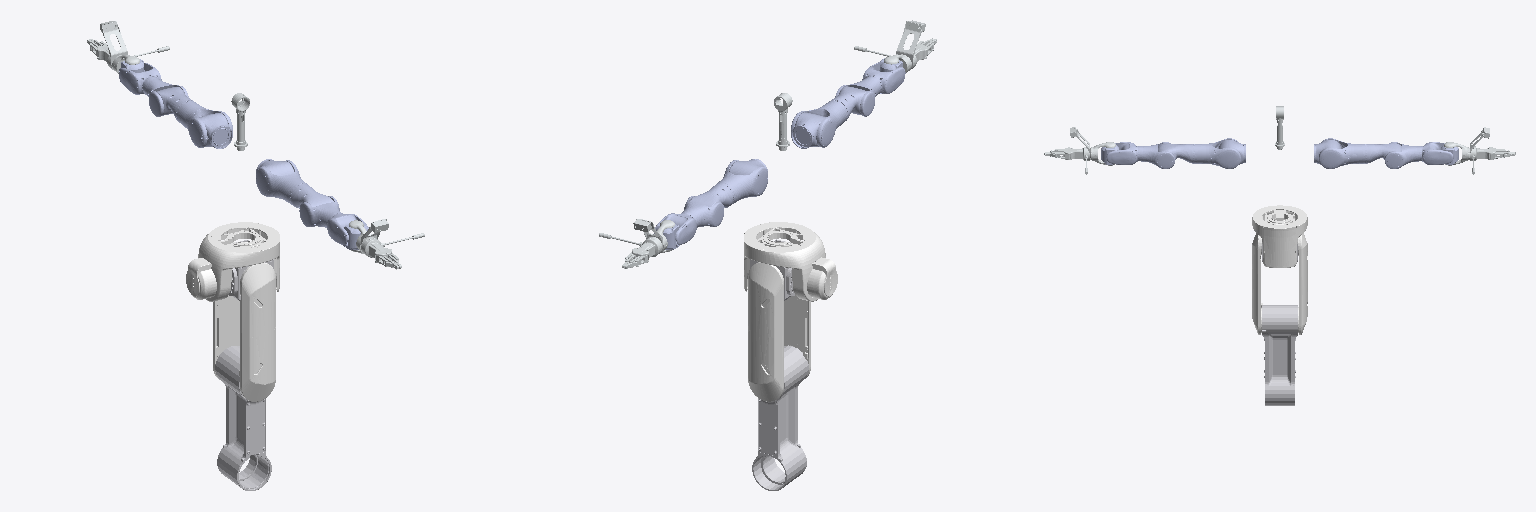
robot.urdf — G01_xml_base_aligned:
<?xml version='1.0' encoding='UTF-8'?>
<robot name="G01_xml_base_aligned"><!-- Rebased from G01.SLDASM(1).urdf to match robot_neck_updated.xml kinematic base/hierarchy. --><!-- Root physical link is ankle_pitch_link. Lower-body helper *_joint_frame links are massless URDF adapters that reproduce MJCF joints whose pivot is offset inside the child body. --><!-- MJCF world placement ankle_pitch_link pos='0.106499 0.0755 0.09845' is intentionally not encoded as a URDF world joint; URDF root coordinates start at ankle_pitch_link itself. --><link name="ankle_pitch_link">
    <inertial>
      <origin xyz="-0.067751 -0.085038 -0.00048866" rpy="0 0 0"/>
      <mass value="13.241"/>
      <inertia ixx="0.13265" ixy="-0.00012119" ixz="0.001768" iyy="0.086186" iyz="-0.0032762" izz="0.16969"/>
    </inertial>
    <visual>
      <origin xyz="0 0 0" rpy="0 0 0"/>
      <geometry>
        <mesh filename="../meshes/leg_pitch_1_Link.STL"/>
      </geometry>
      <material name="">
        <color rgba="0.79216 0.81961 0.93333 1"/>
      </material>
    </visual>
    <collision>
      <origin xyz="0 0 0" rpy="0 0 0"/>
      <geometry>
        <mesh filename="../meshes/leg_pitch_1_Link.STL"/>
      </geometry>
    </collision>
  </link>
  <link name="knee_pitch_link">
    <inertial>
      <origin xyz="0.0030187 -0.088388 -0.17779" rpy="0 0 0"/>
      <mass value="5.3729"/>
      <inertia ixx="0.15132" ixy="-8.9208E-05" ixz="0.00033667" iyy="0.15017" iyz="-3.134E-06" izz="0.020706"/>
    </inertial>
    <visual>
      <origin xyz="0 0 0" rpy="0 0 0"/>
      <geometry>
        <mesh filename="../meshes/leg_pitch_2_Link.STL"/>
      </geometry>
      <material name="">
        <color rgba="0.86667 0.86667 0.8902 1"/>
      </material>
    </visual>
    <collision>
      <origin xyz="0 0 0" rpy="0 0 0"/>
      <geometry>
        <mesh filename="../meshes/leg_pitch_2_Link.STL"/>
      </geometry>
    </collision>
  </link>
  <link name="thigh">
    <inertial>
      <origin xyz="-0.0016889 0.033117 -0.20958" rpy="0 0 0"/>
      <mass value="10.128"/>
      <inertia ixx="7990.5" ixy="16.784" ixz="4.3376" iyy="8660.9" iyz="-0.16702" izz="768.18"/>
    </inertial>
    <visual>
      <origin xyz="0 0 0" rpy="0 0 0"/>
      <geometry>
        <mesh filename="../meshes/waist_pitch_Link.STL"/>
      </geometry>
      <material name="">
        <color rgba="1 1 1 1"/>
      </material>
    </visual>
    <collision>
      <origin xyz="0 0 0" rpy="0 0 0"/>
      <geometry>
        <mesh filename="../meshes/waist_pitch_Link.STL"/>
      </geometry>
    </collision>
  </link>
  <link name="hip_roll_link">
    <inertial>
      <origin xyz="0.071191 -0.00047493 -0.00027806" rpy="0 0 0"/>
      <mass value="3.1917"/>
      <inertia ixx="0.017166" ixy="8.7819E-05" ixz="5.4052E-05" iyy="0.017432" iyz="-2.1704E-05" izz="0.018019"/>
    </inertial>
    <visual>
      <origin xyz="0 0 0" rpy="0 0 0"/>
      <geometry>
        <mesh filename="../meshes/waist_roll_Link.STL"/>
      </geometry>
      <material name="">
        <color rgba="0.86667 0.86667 0.8902 1"/>
      </material>
    </visual>
    <collision>
      <origin xyz="0 0 0" rpy="0 0 0"/>
      <geometry>
        <mesh filename="../meshes/waist_roll_Link.STL"/>
      </geometry>
    </collision>
  </link>
  <link name="pelvis">
    <inertial>
      <origin xyz="-0.017322 -0.00048002 -0.074637" rpy="0 0 0"/>
      <mass value="2.088"/>
      <inertia ixx="0.0094861" ixy="1.6546E-05" ixz="-0.00063215" iyy="0.018944" iyz="3.6752E-05" izz="0.018452"/>
    </inertial>
    <visual>
      <origin xyz="0 0 0" rpy="0 0 0"/>
      <geometry>
        <mesh filename="../meshes/waist_yaw_Link.STL"/>
      </geometry>
      <material name="">
        <color rgba="1 1 1 1"/>
      </material>
    </visual>
    <collision>
      <origin xyz="0 0 0" rpy="0 0 0"/>
      <geometry>
        <mesh filename="../meshes/waist_yaw_Link.STL"/>
      </geometry>
    </collision>
  </link>
  <link name="torso">
    <inertial>
      <origin xyz="0.098699 -0.00011456 -0.00039957" rpy="0 0 0"/>
      <mass value="5.7915"/>
      <inertia ixx="0.089485" ixy="-3.1414E-06" ixz="0.001659" iyy="0.077846" iyz="-7.1762E-05" izz="0.032366"/>
    </inertial>
    <visual>
      <origin xyz="0 0 0" rpy="0 0 0"/>
      <geometry>
        <mesh filename="../meshes/base_link.STL"/>
      </geometry>
      <material name="">
        <color rgba="0.79216 0.81961 0.93333 1"/>
      </material>
    </visual>
    <collision>
      <origin xyz="0 0 0" rpy="0 0 0"/>
      <geometry>
        <mesh filename="../meshes/base_link.STL"/>
      </geometry>
    </collision>
  </link>
  <link name="L_link1">
    <inertial>
      <origin xyz="-5.6645E-06 -0.0052551 0.07396" rpy="0 0 0"/>
      <mass value="1.2203"/>
      <inertia ixx="0.0023855" ixy="1.1482E-07" ixz="-3.3229E-07" iyy="0.0022762" iyz="5.5034E-05" izz="0.0020362"/>
    </inertial>
    <visual>
      <origin xyz="0 0 0" rpy="0 0 0"/>
      <geometry>
        <mesh filename="../meshes/shoulder_pitch_L_Link.STL"/>
      </geometry>
      <material name="">
        <color rgba="0.79216 0.81961 0.93333 1"/>
      </material>
    </visual>
    <collision>
      <origin xyz="0 0 0" rpy="0 0 0"/>
      <geometry>
        <mesh filename="../meshes/shoulder_pitch_L_Link.STL"/>
      </geometry>
    </collision>
  </link>
  <link name="L_link2">
    <inertial>
      <origin xyz="-4.2735E-06 -0.046926 0.098165" rpy="0 0 0"/>
      <mass value="1.1711"/>
      <inertia ixx="0.0056632" ixy="9.4151E-08" ixz="-4.6299E-07" iyy="0.0048822" iyz="0.00069244" izz="0.0022618"/>
    </inertial>
    <visual>
      <origin xyz="0 0 0" rpy="0 0 0"/>
      <geometry>
        <mesh filename="../meshes/shoulder_roll_L_Link.STL"/>
      </geometry>
      <material name="">
        <color rgba="0.79216 0.81961 0.93333 1"/>
      </material>
    </visual>
    <collision>
      <origin xyz="0 0 0" rpy="0 0 0"/>
      <geometry>
        <mesh filename="../meshes/shoulder_roll_L_Link.STL"/>
      </geometry>
    </collision>
  </link>
  <link name="L_link3">
    <inertial>
      <origin xyz="0.001778 0.0027503 0.091621" rpy="0 0 0"/>
      <mass value="1.1749"/>
      <inertia ixx="0.0036366" ixy="-2.6506E-05" ixz="-0.00035953" iyy="0.0034576" iyz="-0.00011051" izz="0.0015461"/>
    </inertial>
    <visual>
      <origin xyz="0 0 0" rpy="0 0 0"/>
      <geometry>
        <mesh filename="../meshes/shoulder_yaw_L_Link.STL"/>
      </geometry>
      <material name="">
        <color rgba="0.79216 0.81961 0.93333 1"/>
      </material>
    </visual>
    <collision>
      <origin xyz="0 0 0" rpy="0 0 0"/>
      <geometry>
        <mesh filename="../meshes/shoulder_yaw_L_Link.STL"/>
      </geometry>
    </collision>
  </link>
  <link name="L_link4">
    <inertial>
      <origin xyz="-0.0076659 0.043626 0.068345" rpy="0 0 0"/>
      <mass value="0.61471"/>
      <inertia ixx="0.0017807" ixy="3.1458E-05" ixz="6.7897E-05" iyy="0.0014057" iyz="-0.00028373" izz="0.00093046"/>
    </inertial>
    <visual>
      <origin xyz="0 0 0" rpy="0 0 0"/>
      <geometry>
        <mesh filename="../meshes/elbow_L_Link.STL"/>
      </geometry>
      <material name="">
        <color rgba="0.79216 0.81961 0.93333 1"/>
      </material>
    </visual>
    <collision>
      <origin xyz="0 0 0" rpy="0 0 0"/>
      <geometry>
        <mesh filename="../meshes/elbow_L_Link.STL"/>
      </geometry>
    </collision>
  </link>
  <link name="L_link5">
    <inertial>
      <origin xyz="-0.00049231 -0.0067607 0.04988" rpy="0 0 0"/>
      <mass value="0.62452"/>
      <inertia ixx="0.0013925" ixy="2.6252E-05" ixz="2.1003E-05" iyy="0.0010098" iyz="8.2433E-05" izz="0.00092058"/>
    </inertial>
    <visual>
      <origin xyz="0 0 0" rpy="0 0 0"/>
      <geometry>
        <mesh filename="../meshes/wrist_yaw_L_Link.STL"/>
      </geometry>
      <material name="">
        <color rgba="0.79216 0.81961 0.93333 1"/>
      </material>
    </visual>
    <collision>
      <origin xyz="0 0 0" rpy="0 0 0"/>
      <geometry>
        <mesh filename="../meshes/wrist_yaw_L_Link.STL"/>
      </geometry>
    </collision>
  </link>
  <link name="L_link6">
    <inertial>
      <origin xyz="3.5625E-05 -1.8032E-05 1.0508E-06" rpy="0 0 0"/>
      <mass value="0.47347"/>
      <inertia ixx="0.00042051" ixy="-1.2309E-07" ixz="2.3423E-08" iyy="0.00049432" iyz="-3.9434E-10" izz="0.00047169"/>
    </inertial>
    <visual>
      <origin xyz="0 0 0" rpy="0 0 0"/>
      <geometry>
        <mesh filename="../meshes/wrist_roll_L_Link.STL"/>
      </geometry>
      <material name="">
        <color rgba="0.79216 0.81961 0.93333 1"/>
      </material>
    </visual>
    <collision>
      <origin xyz="0 0 0" rpy="0 0 0"/>
      <geometry>
        <mesh filename="../meshes/wrist_roll_L_Link.STL"/>
      </geometry>
    </collision>
  </link>
  <link name="L_link7">
    <inertial>
      <origin xyz="-0.013883 -0.0037125 0.12971" rpy="0 0 0"/>
      <mass value="0.70652"/>
      <inertia ixx="0.00053604" ixy="5.513E-06" ixz="0.00018818" iyy="0.00067704" iyz="-3.3997E-06" izz="0.00058735"/>
    </inertial>
    <visual>
      <origin xyz="0 0 0" rpy="0 0 0"/>
      <geometry>
        <mesh filename="../meshes/wrist_pitch_L_Link.STL"/>
      </geometry>
      <material name="">
        <color rgba="0.89804 0.91765 0.92941 1"/>
      </material>
    </visual>
    <collision>
      <origin xyz="0 0 0" rpy="0 0 0"/>
      <geometry>
        <mesh filename="../meshes/wrist_pitch_L_Link.STL"/>
      </geometry>
    </collision>
  </link>
  <link name="R_link1">
    <inertial>
      <origin xyz="5.3896E-06 0.0052552 0.07396" rpy="0 0 0"/>
      <mass value="1.2203"/>
      <inertia ixx="0.0023855" ixy="1.2041E-07" ixz="3.2923E-07" iyy="0.0022762" iyz="-5.5033E-05" izz="0.0020362"/>
    </inertial>
    <visual>
      <origin xyz="0 0 0" rpy="0 0 0"/>
      <geometry>
        <mesh filename="../meshes/shoulder_pitch_R_Link.STL"/>
      </geometry>
      <material name="">
        <color rgba="0.79216 0.81961 0.93333 1"/>
      </material>
    </visual>
    <collision>
      <origin xyz="0 0 0" rpy="0 0 0"/>
      <geometry>
        <mesh filename="../meshes/shoulder_pitch_R_Link.STL"/>
      </geometry>
    </collision>
  </link>
  <link name="R_link2">
    <inertial>
      <origin xyz="4.276E-06 0.046926 0.098165" rpy="0 0 0"/>
      <mass value="1.1711"/>
      <inertia ixx="0.0056632" ixy="9.3914E-08" ixz="4.6302E-07" iyy="0.0048822" iyz="-0.00069244" izz="0.0022618"/>
    </inertial>
    <visual>
      <origin xyz="0 0 0" rpy="0 0 0"/>
      <geometry>
        <mesh filename="../meshes/shoulder_roll_R_Link.STL"/>
      </geometry>
      <material name="">
        <color rgba="0.79216 0.81961 0.93333 1"/>
      </material>
    </visual>
    <collision>
      <origin xyz="0 0 0" rpy="0 0 0"/>
      <geometry>
        <mesh filename="../meshes/shoulder_roll_R_Link.STL"/>
      </geometry>
    </collision>
  </link>
  <link name="R_link3">
    <inertial>
      <origin xyz="0.0017783 -0.0027495 0.10262" rpy="0 0 0"/>
      <mass value="1.1749"/>
      <inertia ixx="0.0036366" ixy="2.6526E-05" ixz="-0.00035959" iyy="0.0034575" iyz="0.00011052" izz="0.0015461"/>
    </inertial>
    <visual>
      <origin xyz="0 0 0" rpy="0 0 0"/>
      <geometry>
        <mesh filename="../meshes/shoulder_yaw_R_Link.STL"/>
      </geometry>
      <material name="">
        <color rgba="0.79216 0.81961 0.93333 1"/>
      </material>
    </visual>
    <collision>
      <origin xyz="0 0 0" rpy="0 0 0"/>
      <geometry>
        <mesh filename="../meshes/shoulder_yaw_R_Link.STL"/>
      </geometry>
    </collision>
  </link>
  <link name="R_link4">
    <inertial>
      <origin xyz="-0.0076659 0.065824 0.068345" rpy="0 0 0"/>
      <mass value="0.6147"/>
      <inertia ixx="0.0017807" ixy="-3.1452E-05" ixz="6.7886E-05" iyy="0.0014057" iyz="0.00028372" izz="0.00093046"/>
    </inertial>
    <visual>
      <origin xyz="0 0 0" rpy="0 0 0"/>
      <geometry>
        <mesh filename="../meshes/elbow_R_Link.STL"/>
      </geometry>
      <material name="">
        <color rgba="0.79216 0.81961 0.93333 1"/>
      </material>
    </visual>
    <collision>
      <origin xyz="0 0 0" rpy="0 0 0"/>
      <geometry>
        <mesh filename="../meshes/elbow_R_Link.STL"/>
      </geometry>
    </collision>
  </link>
  <link name="R_link5">
    <inertial>
      <origin xyz="-0.00049102 0.0067607 0.051882" rpy="0 0 0"/>
      <mass value="0.62453"/>
      <inertia ixx="0.0013926" ixy="-2.6405E-05" ixz="2.1018E-05" iyy="0.0010099" iyz="-8.245E-05" izz="0.0009206"/>
    </inertial>
    <visual>
      <origin xyz="0 0 0" rpy="0 0 0"/>
      <geometry>
        <mesh filename="../meshes/wrist_yaw_R_Link.STL"/>
      </geometry>
      <material name="">
        <color rgba="0.79216 0.81961 0.93333 1"/>
      </material>
    </visual>
    <collision>
      <origin xyz="0 0 0" rpy="0 0 0"/>
      <geometry>
        <mesh filename="../meshes/wrist_yaw_R_Link.STL"/>
      </geometry>
    </collision>
  </link>
  <link name="R_link6">
    <inertial>
      <origin xyz="3.5594E-05 1.8218E-05 1.0035E-06" rpy="0 0 0"/>
      <mass value="0.47347"/>
      <inertia ixx="0.00042051" ixy="1.2276E-07" ixz="2.3419E-08" iyy="0.00049432" iyz="3.1419E-10" izz="0.00047169"/>
    </inertial>
    <visual>
      <origin xyz="0 0 0" rpy="0 0 0"/>
      <geometry>
        <mesh filename="../meshes/wrist_roll_R_Link.STL"/>
      </geometry>
      <material name="">
        <color rgba="0.79216 0.81961 0.93333 1"/>
      </material>
    </visual>
    <collision>
      <origin xyz="0 0 0" rpy="0 0 0"/>
      <geometry>
        <mesh filename="../meshes/wrist_roll_R_Link.STL"/>
      </geometry>
    </collision>
  </link>
  <link name="R_link7">
    <inertial>
      <origin xyz="-0.013573 0.0034809 0.12971" rpy="0 0 0"/>
      <mass value="0.70653"/>
      <inertia ixx="0.00053601" ixy="5.3237E-06" ixz="0.0001882" iyy="0.00067699" iyz="-3.5804E-06" izz="0.00058729"/>
    </inertial>
    <visual>
      <origin xyz="0 0 0" rpy="0 0 0"/>
      <geometry>
        <mesh filename="../meshes/wrist_pitch_R_Link.STL"/>
      </geometry>
      <material name="">
        <color rgba="0.89804 0.91765 0.92941 1"/>
      </material>
    </visual>
    <collision>
      <origin xyz="0 0 0" rpy="0 0 0"/>
      <geometry>
        <mesh filename="../meshes/wrist_pitch_R_Link.STL"/>
      </geometry>
    </collision>
  </link>
  <link name="neck_yaw_link">
    <inertial>
      <origin xyz="-4.5413E-05 0.0013344 0.088716" rpy="0 0 0"/>
      <mass value="0.21475"/>
      <inertia ixx="0.00032902" ixy="1.4352E-07" ixz="2.6839E-08" iyy="0.00034306" iyz="-1.2821E-06" izz="7.4162E-05"/>
    </inertial>
    <visual>
      <origin xyz="0 0 0" rpy="0 0 0"/>
      <geometry>
        <mesh filename="../meshes/head_yaw_Link.STL"/>
      </geometry>
      <material name="">
        <color rgba="0.89804 0.91765 0.92941 1"/>
      </material>
    </visual>
    <collision>
      <origin xyz="0 0 0" rpy="0 0 0"/>
      <geometry>
        <mesh filename="../meshes/head_yaw_Link.STL"/>
      </geometry>
    </collision>
  </link>
  <link name="head">
    <inertial>
      <origin xyz="0.032468 0.030856 0.058694" rpy="0 0 0"/>
      <mass value="0.7844"/>
      <inertia ixx="0.0019813" ixy="-2.1834E-05" ixz="-4.4847E-05" iyy="0.0014724" iyz="-9.9191E-05" izz="0.0023018"/>
    </inertial>
    <visual>
      <origin xyz="0 0 0" rpy="0 0 0"/>
      <geometry>
        <mesh filename="../meshes/head_pitch_Link.STL"/>
      </geometry>
      <material name="">
        <color rgba="1 1 1 1"/>
      </material>
    </visual>
    <collision>
      <origin xyz="0 0 0" rpy="0 0 0"/>
      <geometry>
        <mesh filename="../meshes/head_pitch_Link.STL"/>
      </geometry>
    </collision>
  </link>
  <link name="ankle_pitch_joint_frame"/><link name="knee_pitch_joint_frame"/><link name="hip_pitch_joint_frame"/><link name="hip_roll_joint_frame"/><link name="hip_yaw_joint_frame"/><link name="arm_base_link"/><link name="L_base"/><link name="R_base"/><joint name="ankle_pitch" type="revolute"><origin xyz="0 0 0" rpy="0 0 0"/><parent link="ankle_pitch_link"/><child link="ankle_pitch_joint_frame"/><axis xyz="0 1 0"/><limit lower="-1.0472" upper="0" effort="0" velocity="0"/></joint><joint name="ankle_pitch_body_offset" type="fixed"><origin xyz="0 0.0102 0.38" rpy="0 0 0"/><parent link="ankle_pitch_joint_frame"/><child link="knee_pitch_link"/></joint><joint name="knee_pitch" type="revolute"><origin xyz="0 0 0" rpy="0 0 0"/><parent link="knee_pitch_link"/><child link="knee_pitch_joint_frame"/><axis xyz="0 -1 0"/><limit lower="-2.167" upper="0" effort="0" velocity="0"/></joint><joint name="knee_pitch_body_offset" type="fixed"><origin xyz="0 0 0.42" rpy="0 0 0"/><parent link="knee_pitch_joint_frame"/><child link="thigh"/></joint><joint name="hip_pitch" type="revolute"><origin xyz="0 0 0" rpy="0 0 0"/><parent link="thigh"/><child link="hip_pitch_joint_frame"/><axis xyz="0 1 0"/><limit lower="-1.5708" upper="1.9199" effort="0" velocity="0"/></joint><joint name="hip_pitch_body_offset" type="fixed"><origin xyz="-0.089 -0.085496 0" rpy="0 0 0"/><parent link="hip_pitch_joint_frame"/><child link="hip_roll_link"/></joint><joint name="hip_roll" type="revolute"><origin xyz="0 0 0" rpy="0 0 0"/><parent link="hip_roll_link"/><child link="hip_roll_joint_frame"/><axis xyz="0.99995 0 -0.0096363"/><limit lower="-0.4363" upper="0.4363" effort="0" velocity="0"/></joint><joint name="hip_roll_body_offset" type="fixed"><origin xyz="0.088999 0 0.146" rpy="0 0 0"/><parent link="hip_roll_joint_frame"/><child link="pelvis"/></joint><joint name="hip_yaw" type="revolute"><origin xyz="0 0 0" rpy="0 0 0"/><parent link="pelvis"/><child link="hip_yaw_joint_frame"/><axis xyz="-0.0096363 0 -0.99995"/><limit lower="-3.0543" upper="3.0543" effort="0" velocity="0"/></joint><joint name="hip_yaw_body_offset" type="fixed"><origin xyz="-0.1065 0 0.2435" rpy="0 0 0"/><parent link="hip_yaw_joint_frame"/><child link="torso"/></joint><joint name="torso_to_arm_base" type="fixed"><origin xyz="0 0 0" rpy="0 0 0"/><parent link="torso"/><child link="arm_base_link"/></joint><joint name="arm_base_to_L_base" type="fixed"><origin xyz="0.1065 0.1645 0.0905" rpy="0 1.5708 1.5708"/><parent link="arm_base_link"/><child link="L_base"/></joint><joint name="arm_base_to_R_base" type="fixed"><origin xyz="0.1065 -0.1645 0.0905" rpy="1.5708 1.5708 0"/><parent link="arm_base_link"/><child link="R_base"/></joint><joint name="L_joint1" type="revolute">
    <origin xyz="0 0 0" rpy="0 0 0"/>
    <parent link="L_base"/>
    <child link="L_link1"/>
    <axis xyz="0 0 1"/>
    <limit lower="-3.1067" upper="3.1067" effort="0" velocity="0"/>
  </joint>
  <joint name="L_joint2" type="revolute">
    <origin xyz="0 0.0532 0.0825" rpy="0 0 0"/>
    <parent link="L_link1"/>
    <child link="L_link2"/>
    <axis xyz="0 1 0"/>
    <limit lower="-2.0944" upper="1.57" effort="0" velocity="0"/>
  </joint>
  <joint name="L_joint3" type="revolute">
    <origin xyz="0 -0.0532 0.189" rpy="0 0 0"/>
    <parent link="L_link2"/>
    <child link="L_link3"/>
    <axis xyz="0 0 1"/>
    <limit lower="-3.1067" upper="3.1067" effort="0" velocity="0"/>
  </joint>
  <joint name="L_joint4" type="revolute">
    <origin xyz="0.01 -0.05075 0.125" rpy="0 0 0"/>
    <parent link="L_link3"/>
    <child link="L_link4"/>
    <axis xyz="0 1 0"/>
    <limit lower="-1.04" upper="2.5307" effort="0" velocity="0"/>
  </joint>
  <joint name="L_joint5" type="revolute">
    <origin xyz="-0.01 0.05075 0.137" rpy="0 0 0"/>
    <parent link="L_link4"/>
    <child link="L_link5"/>
    <axis xyz="0 0 1"/>
    <limit lower="-3.1067" upper="3.1067" effort="0" velocity="0"/>
  </joint>
  <joint name="L_joint6" type="revolute">
    <origin xyz="0 0 0.135" rpy="0 0 0"/>
    <parent link="L_link5"/>
    <child link="L_link6"/>
    <axis xyz="0 1 0"/>
    <limit lower="-1.0472" upper="1.0472" effort="0" velocity="0"/>
  </joint>
  <joint name="L_joint7" type="revolute">
    <origin xyz="0 0 0" rpy="0 0 0"/>
    <parent link="L_link6"/>
    <child link="L_link7"/>
    <axis xyz="1 0 0"/>
    <limit lower="-1.5708" upper="1.5708" effort="0" velocity="0"/>
  </joint>
  <joint name="R_joint1" type="revolute">
    <origin xyz="0 0 0" rpy="0 0 0"/>
    <parent link="R_base"/>
    <child link="R_link1"/>
    <axis xyz="0 0 1"/>
    <limit lower="-3.1067" upper="3.1067" effort="0" velocity="0"/>
  </joint>
  <joint name="R_joint2" type="revolute">
    <origin xyz="0 -0.0532 0.0825" rpy="0 0 0"/>
    <parent link="R_link1"/>
    <child link="R_link2"/>
    <axis xyz="0 1 0"/>
    <limit lower="-2.0944" upper="1.57" effort="0" velocity="0"/>
  </joint>
  <joint name="R_joint3" type="revolute">
    <origin xyz="0 0.0532 0.178" rpy="0 0 0"/>
    <parent link="R_link2"/>
    <child link="R_link3"/>
    <axis xyz="0 0 1"/>
    <limit lower="-3.1067" upper="3.1067" effort="0" velocity="0"/>
  </joint>
  <joint name="R_joint4" type="revolute">
    <origin xyz="0.01 -0.0587 0.136" rpy="0 0 0"/>
    <parent link="R_link3"/>
    <child link="R_link4"/>
    <axis xyz="0 1 0"/>
    <limit lower="-1.04" upper="2.5307" effort="0" velocity="0"/>
  </joint>
  <joint name="R_joint5" type="revolute">
    <origin xyz="-0.01 0.0587 0.135" rpy="0 0 0"/>
    <parent link="R_link4"/>
    <child link="R_link5"/>
    <axis xyz="0 0 1"/>
    <limit lower="-3.1067" upper="3.1067" effort="0" velocity="0"/>
  </joint>
  <joint name="R_joint6" type="revolute">
    <origin xyz="0 0 0.137" rpy="0 0 0"/>
    <parent link="R_link5"/>
    <child link="R_link6"/>
    <axis xyz="0 1 0"/>
    <limit lower="-1.0472" upper="1.0472" effort="0" velocity="0"/>
  </joint>
  <joint name="R_joint7" type="revolute">
    <origin xyz="0 0 0" rpy="0 0 0"/>
    <parent link="R_link6"/>
    <child link="R_link7"/>
    <axis xyz="1 0 0"/>
    <limit lower="-1.5708" upper="1.5708" effort="0" velocity="0"/>
  </joint>
  <joint name="neck_yaw" type="revolute">
    <origin xyz="0.0915 0 0.138" rpy="0 0 0"/>
    <parent link="torso"/>
    <child link="neck_yaw_link"/>
    <axis xyz="0 0 -1"/>
    <limit lower="-1.5708" upper="1.5708" effort="0" velocity="0"/>
  </joint>
  <joint name="neck_pitch" type="revolute">
    <origin xyz="0 -0.0351 0.1697" rpy="0 0 0"/>
    <parent link="neck_yaw_link"/>
    <child link="head"/>
    <axis xyz="0 -1 0"/>
    <limit lower="-0.5236" upper="0.5236" effort="0" velocity="0"/>
  </joint>
  </robot>

--- Facts derived from the render (not from the file) ---
The picture shows the robot from 3 angles, left to right: view 1: azimuth 30°, elevation 25°; view 2: azimuth 150°, elevation 25°; view 3: azimuth 270°, elevation 25°; orthographic projection.
Model G01_xml_base_aligned with 30 links and 29 joints (21 revolute, 8 fixed), rooted at ankle_pitch_link, posed every joint at zero.
Visible links, largest first — view 1: thigh, knee_pitch_link, pelvis, R_link7, L_link7, R_link2, L_link2, L_link1, R_link4, L_link5, L_link4, R_link5 (+3 smaller); view 2: thigh, knee_pitch_link, pelvis, L_link7, R_link7, L_link2, R_link2, R_link1, L_link4, R_link5, R_link4, L_link5 (+3 smaller); view 3: knee_pitch_link, pelvis, thigh, L_link2, R_link2, L_link7, R_link7, L_link4, R_link4, L_link5, R_link5.
Boxes of the visible links, x1=… form: thigh: x1=213, y1=242, x2=275, y2=401; knee_pitch_link: x1=215, y1=346, x2=271, y2=490; pelvis: x1=186, y1=222, x2=279, y2=301; R_link7: x1=349, y1=219, x2=424, y2=269; L_link7: x1=87, y1=21, x2=169, y2=73; R_link2: x1=256, y1=160, x2=307, y2=204; L_link2: x1=176, y1=100, x2=232, y2=147; L_link1: x1=199, y1=113, x2=232, y2=148; R_link4: x1=299, y1=196, x2=342, y2=227; L_link5: x1=119, y1=63, x2=161, y2=94; L_link4: x1=142, y1=77, x2=188, y2=116; R_link5: x1=327, y1=213, x2=368, y2=246; thigh: x1=748, y1=242, x2=810, y2=401; knee_pitch_link: x1=752, y1=345, x2=808, y2=490; pelvis: x1=744, y1=222, x2=837, y2=301; L_link7: x1=599, y1=219, x2=674, y2=268; R_link7: x1=854, y1=20, x2=936, y2=72; L_link2: x1=717, y1=160, x2=767, y2=203; R_link2: x1=791, y1=100, x2=847, y2=147; R_link1: x1=791, y1=112, x2=825, y2=148; L_link4: x1=682, y1=196, x2=723, y2=227; R_link5: x1=862, y1=62, x2=905, y2=93; R_link4: x1=835, y1=76, x2=881, y2=116; L_link5: x1=654, y1=213, x2=696, y2=246; knee_pitch_link: x1=1262, y1=305, x2=1297, y2=405; pelvis: x1=1252, y1=205, x2=1307, y2=267; thigh: x1=1252, y1=233, x2=1307, y2=334; L_link2: x1=1319, y1=138, x2=1366, y2=168; R_link2: x1=1193, y1=138, x2=1240, y2=168; L_link7: x1=1444, y1=127, x2=1515, y2=174; R_link7: x1=1044, y1=127, x2=1115, y2=174; L_link4: x1=1385, y1=142, x2=1421, y2=168; R_link4: x1=1138, y1=142, x2=1174, y2=168; L_link5: x1=1422, y1=142, x2=1453, y2=164; R_link5: x1=1106, y1=142, x2=1137, y2=164.
Bounding box of the posed robot: 0.447 × 2.31 × 1.6 m (x, y, z).
Meshes: 22 distinct files referenced, 19 mesh visuals loaded (19 binary STL); not drawn: 3 (reference not matched to a file when rendering).
